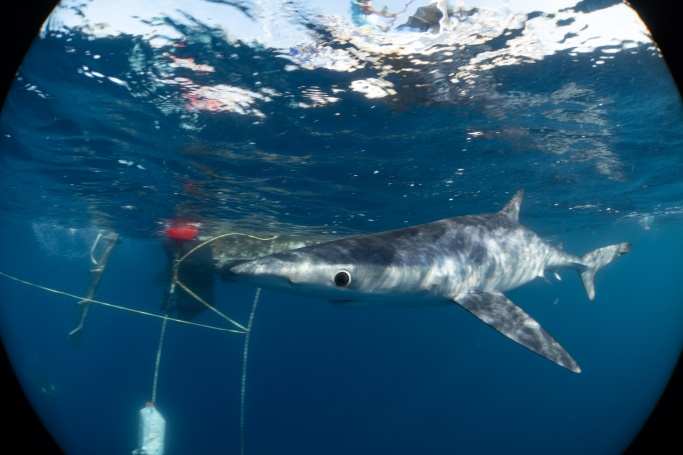Azul: (220, 172, 643, 390)
